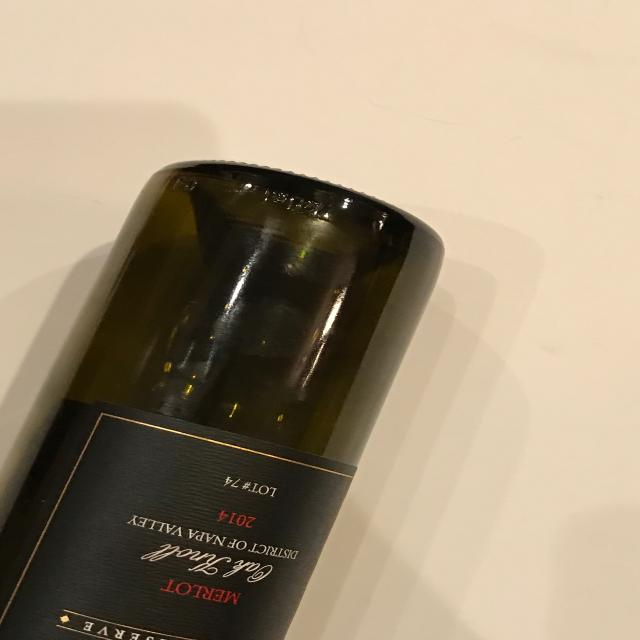glass: (0, 158, 445, 640)
